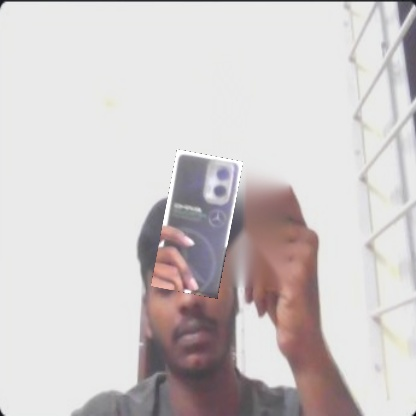cell_phone: (151, 149, 243, 299)
